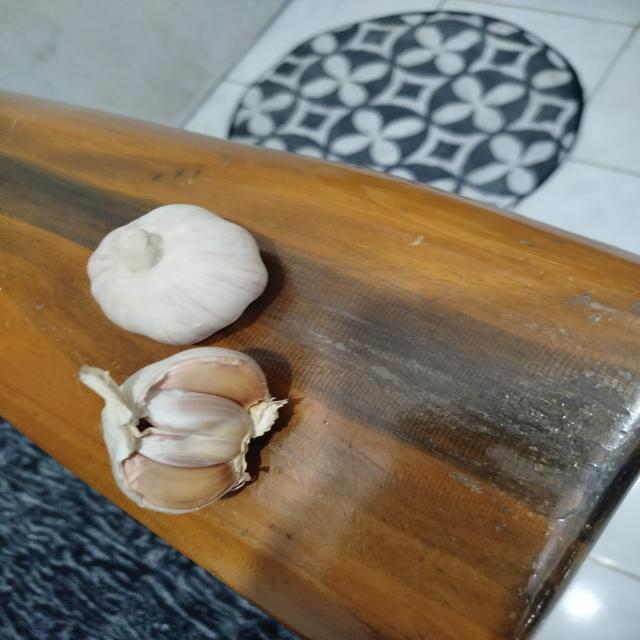garlic: (78, 346, 288, 514), (86, 202, 269, 346)
